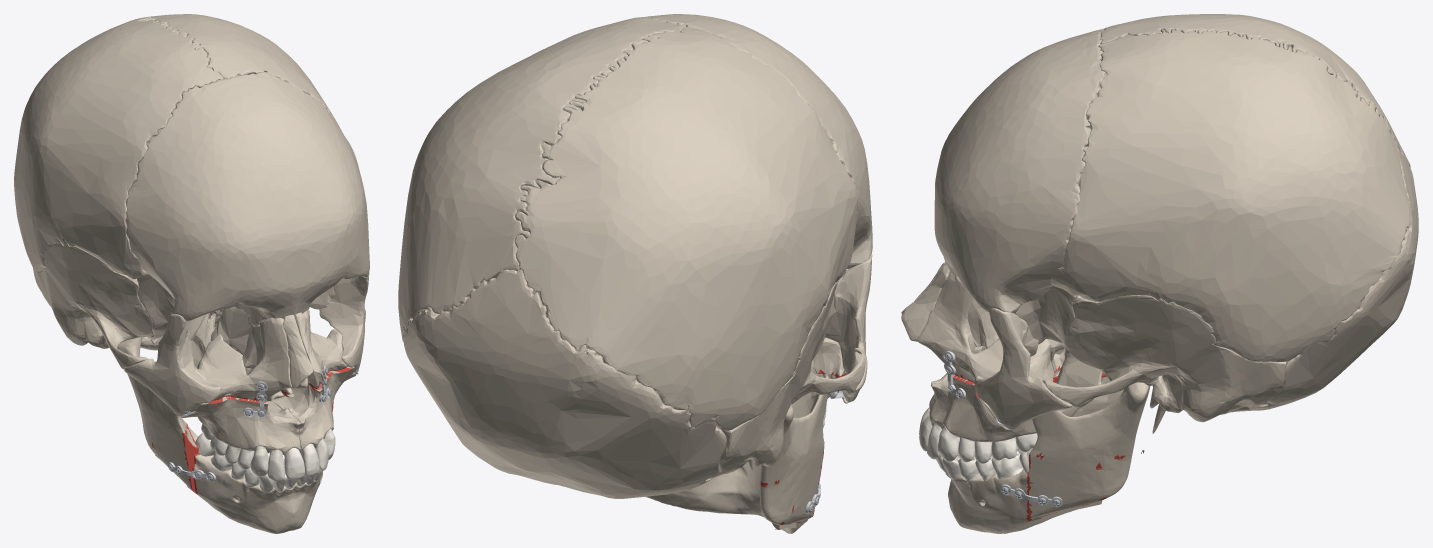
The model's file is class3-after.glb.
The picture shows the model from 3 angles, left to right: view 1: azimuth 30°, elevation 25°; view 2: azimuth 150°, elevation 25°; view 3: azimuth 270°, elevation 25°; orthographic projection. The views are drawn at different scales.
Visible parts, largest first — view 1: bone, moved, teeth, cut, plate; view 2: bone, moved; view 3: bone, moved, teeth, plate.
Boxes of the visible parts, x1,y1,x2,y2 form: bone: [14, 14, 369, 489]; moved: [155, 366, 356, 533]; teeth: [195, 424, 335, 493]; cut: [139, 366, 351, 494]; plate: [167, 366, 358, 481]; bone: [398, 14, 872, 525]; moved: [645, 372, 848, 533]; bone: [901, 14, 1418, 518]; moved: [929, 368, 1144, 533]; teeth: [919, 407, 1037, 486]; plate: [942, 351, 1062, 507].
Size of what is drawn, in the model's own units: 0.1482 by 0.2128 by 0.2035.
